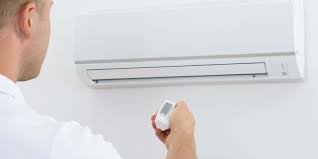ac: (70, 1, 314, 92)
